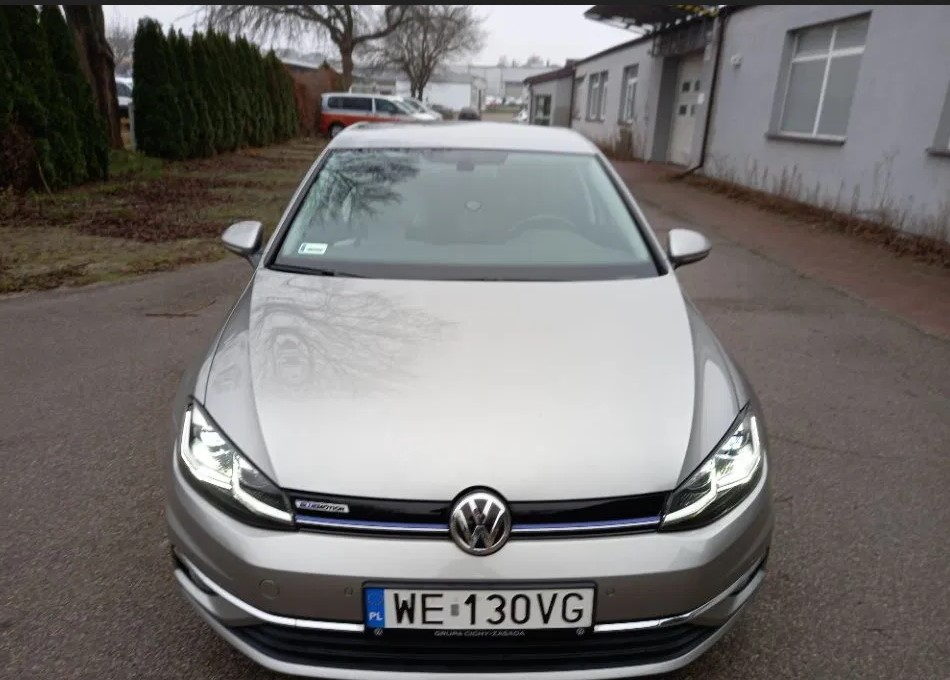number_plate: (353, 574, 608, 646)
